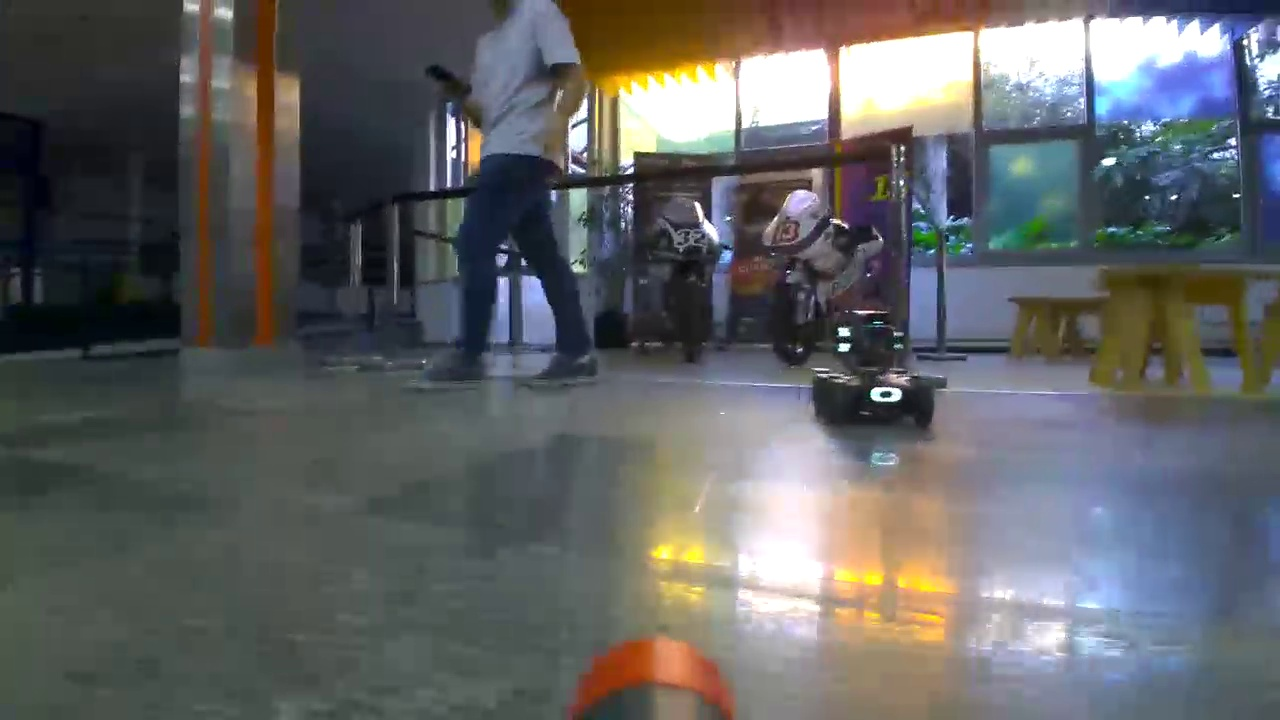robot: (810, 318, 937, 450)
